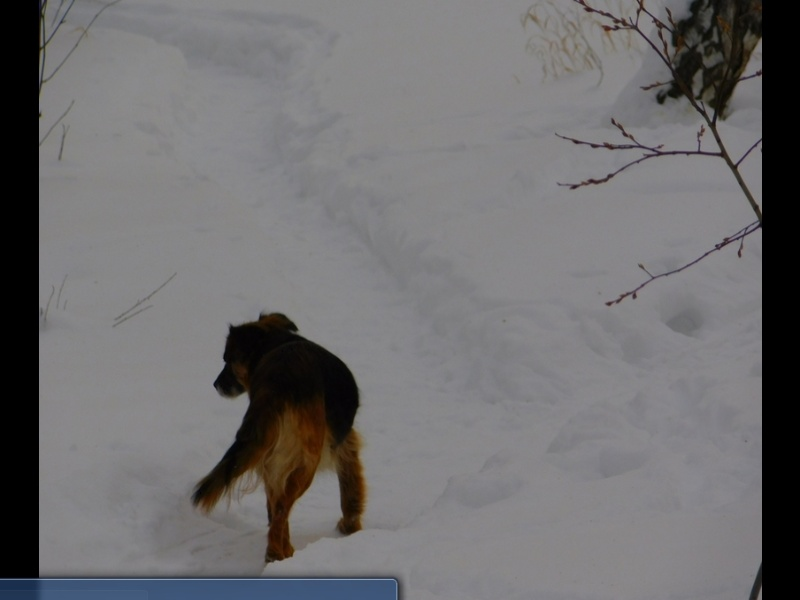dog: (182, 310, 375, 565)
